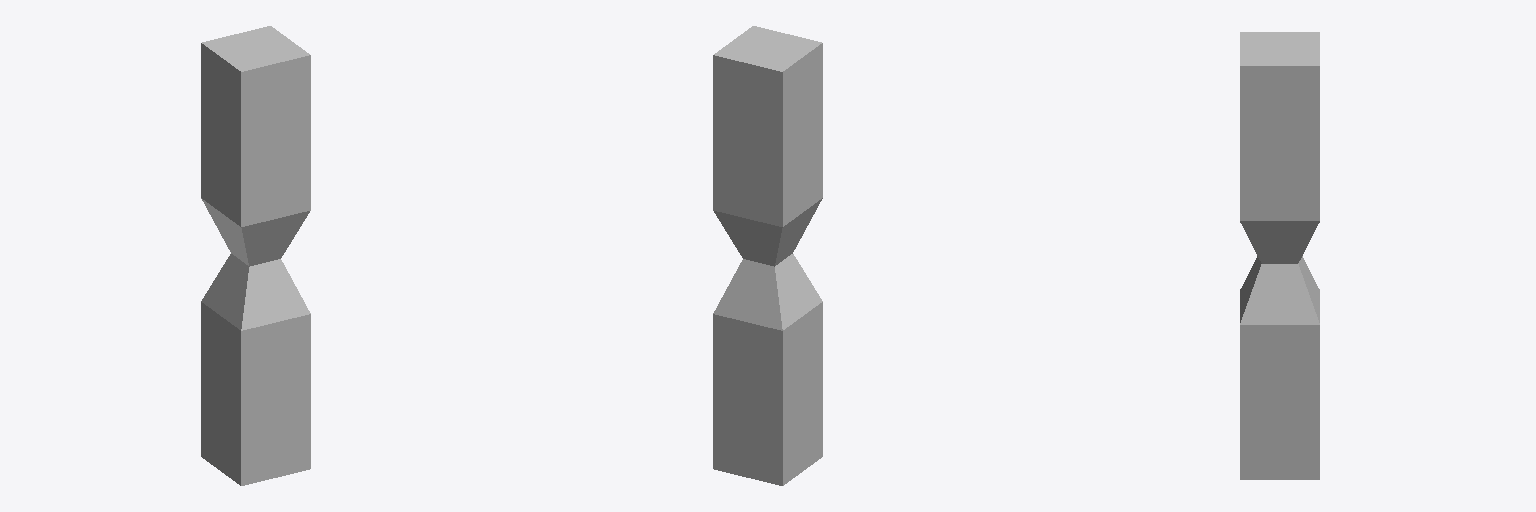
Rendered from Cub2.obj.
3 renders of one model, left to right at view 1: azimuth 30°, elevation 25°; view 2: azimuth 150°, elevation 25°; view 3: azimuth 270°, elevation 25°, orthographic.
Parts seen in each view (by area): view 1: Cube.003; view 2: Cube.003; view 3: Cube.003.
Boxes of the visible parts, box(x1,y1,x2,y2) form: Cube.003: box(201, 26, 310, 485); Cube.003: box(713, 26, 822, 485); Cube.003: box(1240, 32, 1319, 479).
Bounding box in the file's own units: 0.8777 × 4.99 × 0.8777.